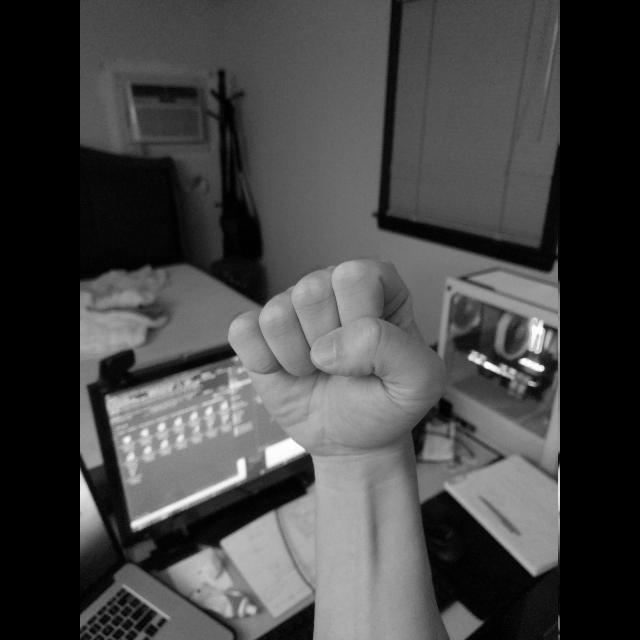S: (223, 253, 451, 465)
